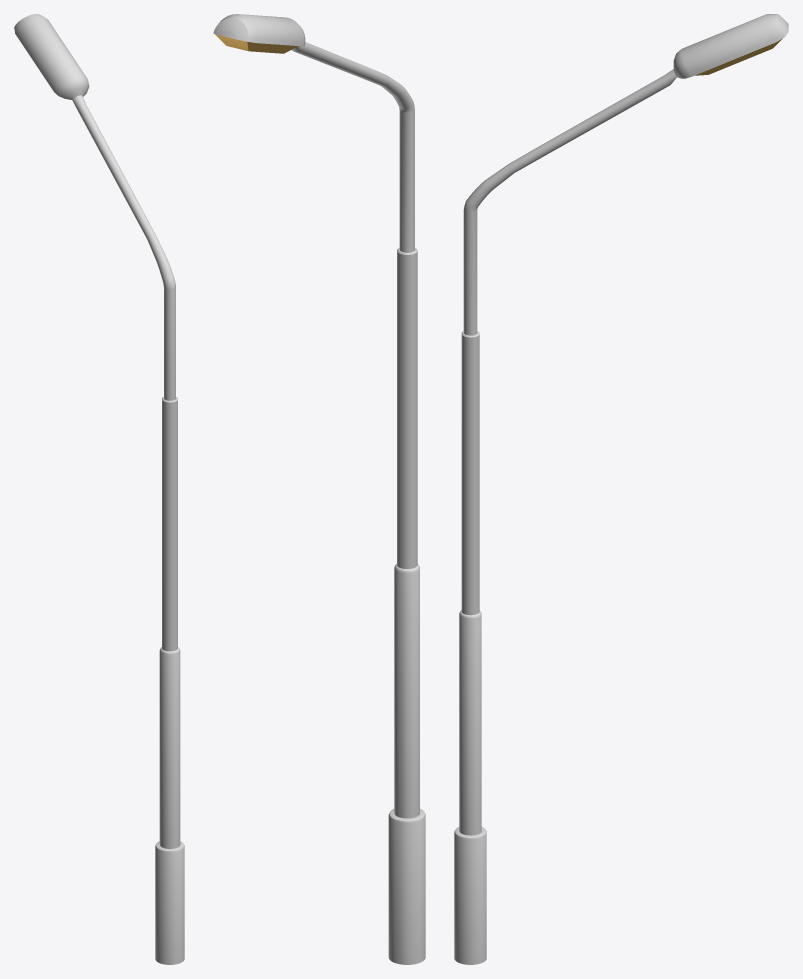
File: street_lamp.fbx
The picture shows the model from 3 angles, left to right: view 1: azimuth 30°, elevation 25°; view 2: azimuth 150°, elevation 25°; view 3: azimuth 270°, elevation 25°; orthographic projection. The views are drawn at different scales.
Parts seen in each view (by area): view 1: Cylinder; view 2: Cylinder; view 3: Cylinder.
Boxes of the visible parts, <box> form: Cylinder: <box>14,14,184,964</box>; Cylinder: <box>213,14,425,964</box>; Cylinder: <box>454,14,788,964</box>.
Bounding box in the file's own units: 18.97 × 448 × 144.
